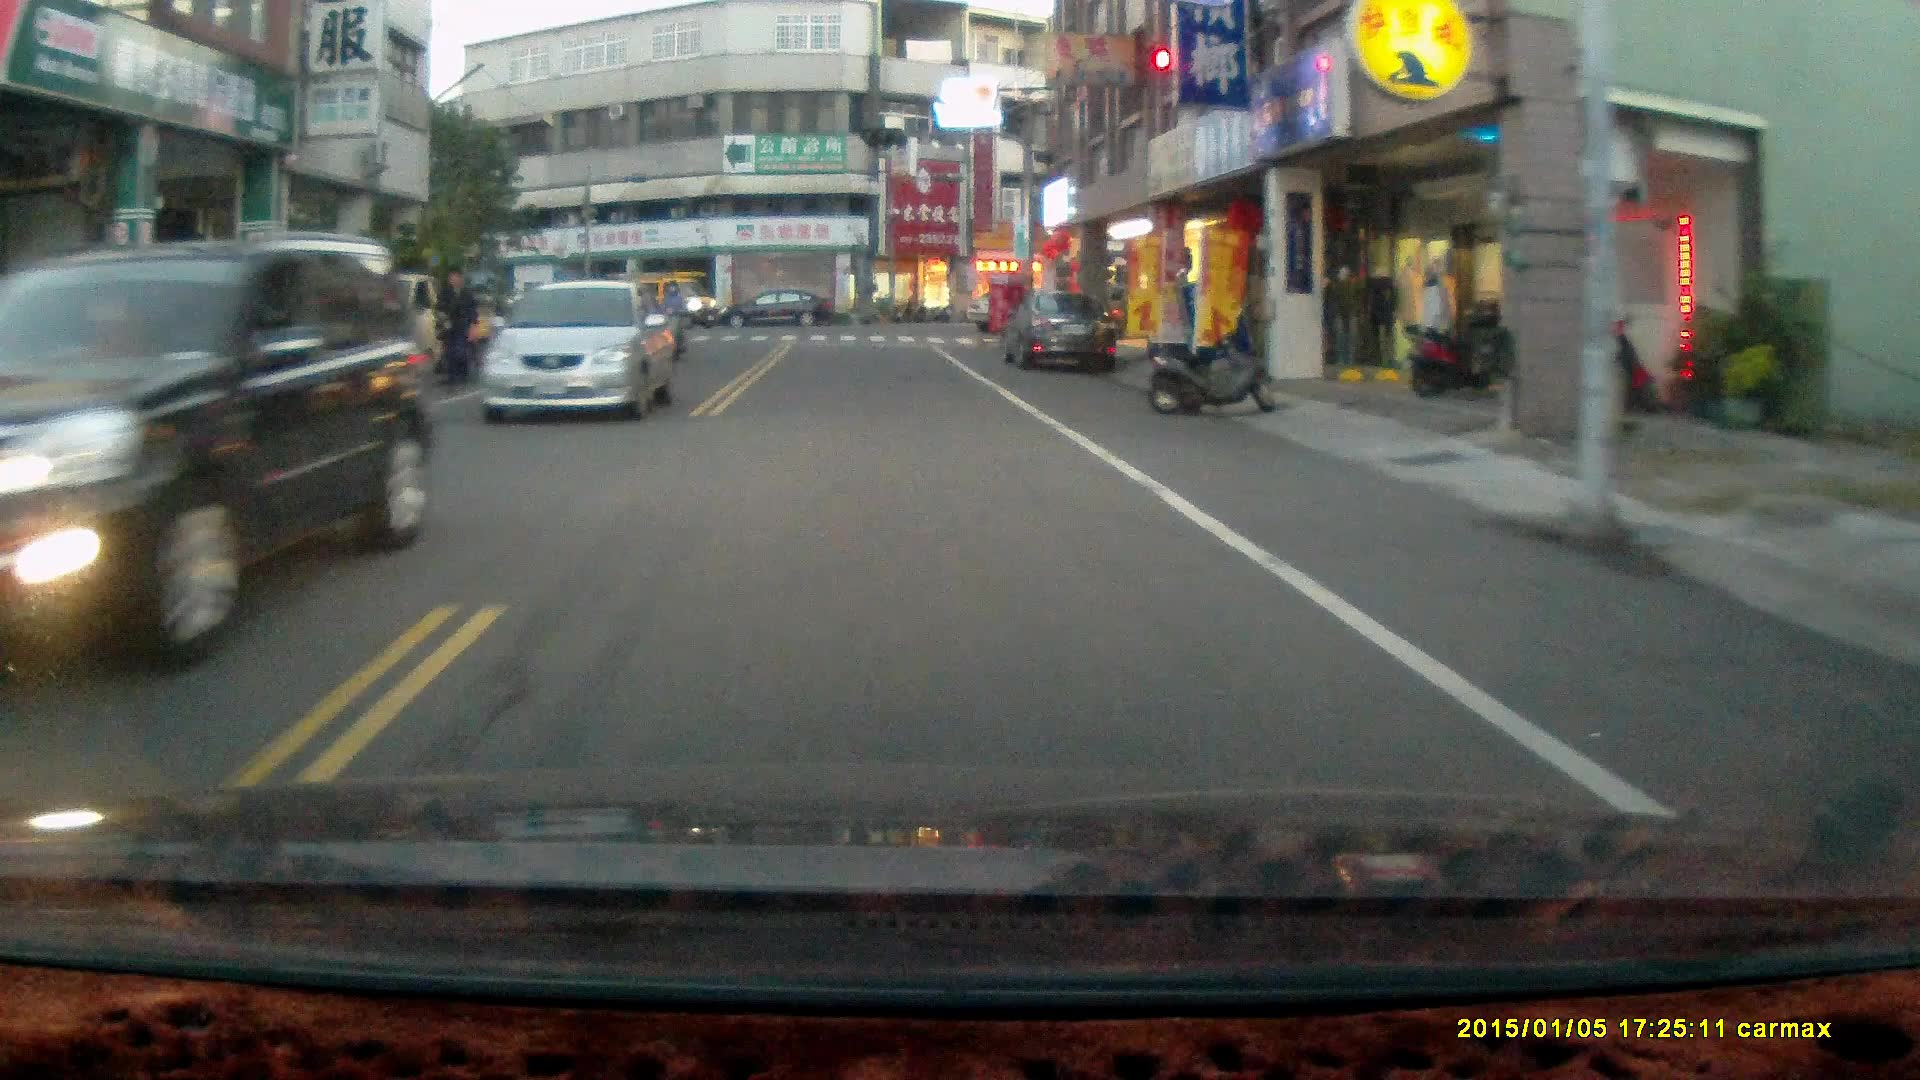pedestrian: (433, 262, 479, 391)
rider: (652, 280, 689, 371)
vehicle: (1, 236, 433, 698), (485, 281, 682, 425), (1001, 289, 1119, 379), (620, 275, 730, 336), (717, 289, 836, 334)
